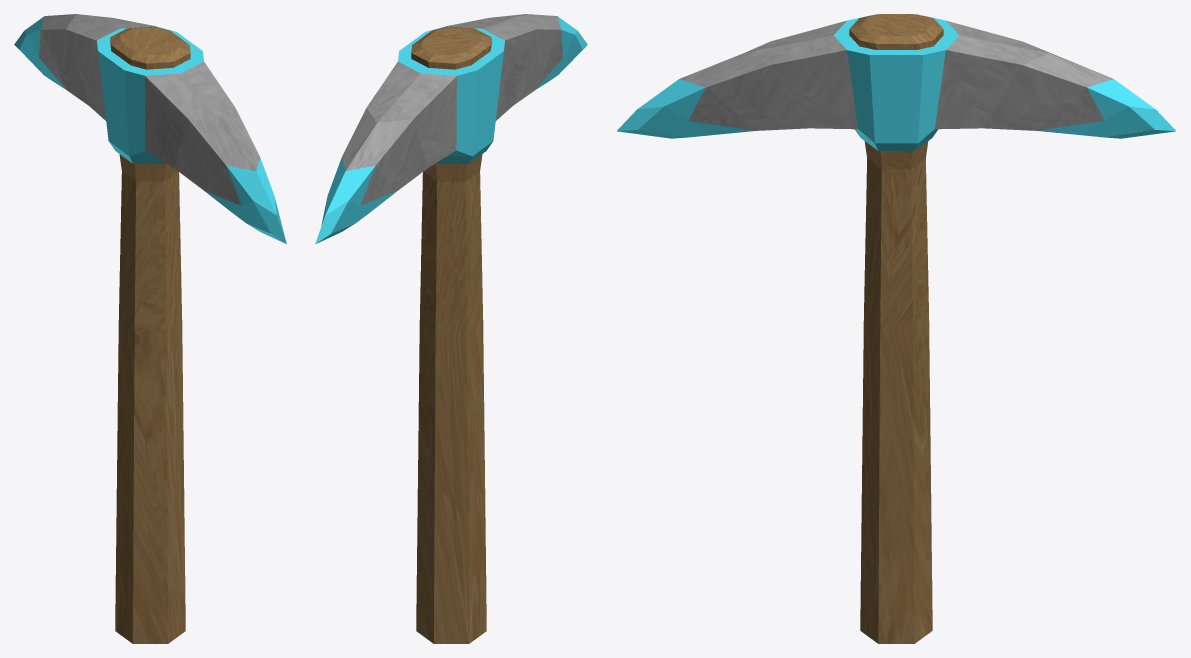
File: item_pickaxe_diamond.fbx
3 views of the same model, side by side, from view 1: azimuth 30°, elevation 25°; view 2: azimuth 150°, elevation 25°; view 3: azimuth 270°, elevation 25° (orthographic). The views are drawn at different scales.
Visible parts, largest first — view 1: Hold; view 2: Hold; view 3: Hold.
Boxes of the visible parts, x1,y1,x2,y2 form: Hold: (14, 14, 286, 643); Hold: (315, 14, 587, 643); Hold: (617, 14, 1175, 643).
Size of the model in its own units: 206 by 1475 by 1237.
3 materials, 2 textured.
